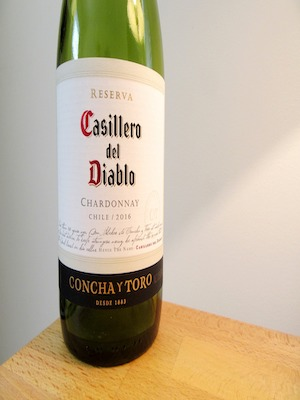casillero del diablo chardonnay: (47, 3, 198, 367)
